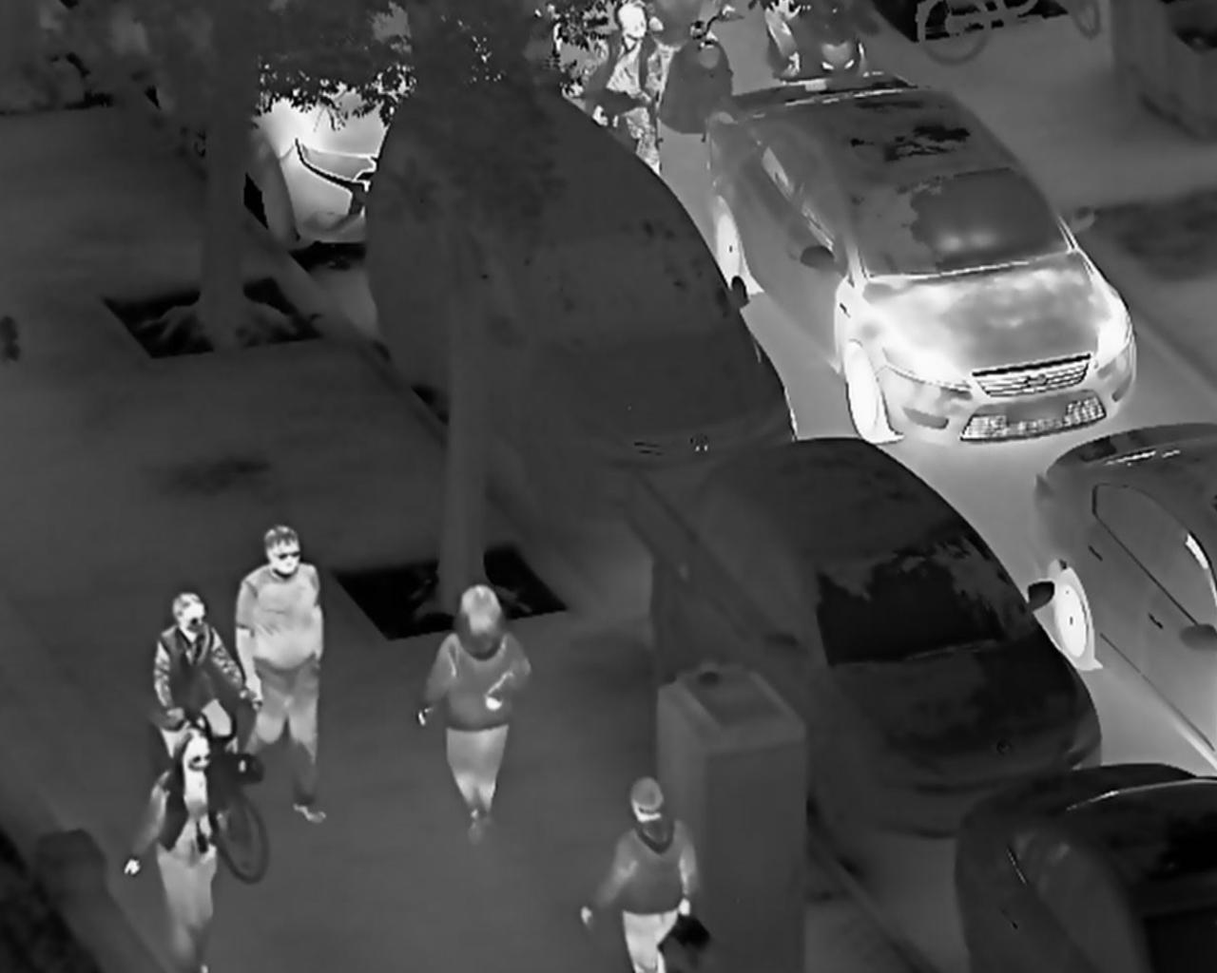person: (413, 583, 538, 846), (227, 524, 331, 826), (576, 773, 706, 973), (119, 726, 223, 973), (148, 586, 249, 767), (582, 2, 663, 173)
